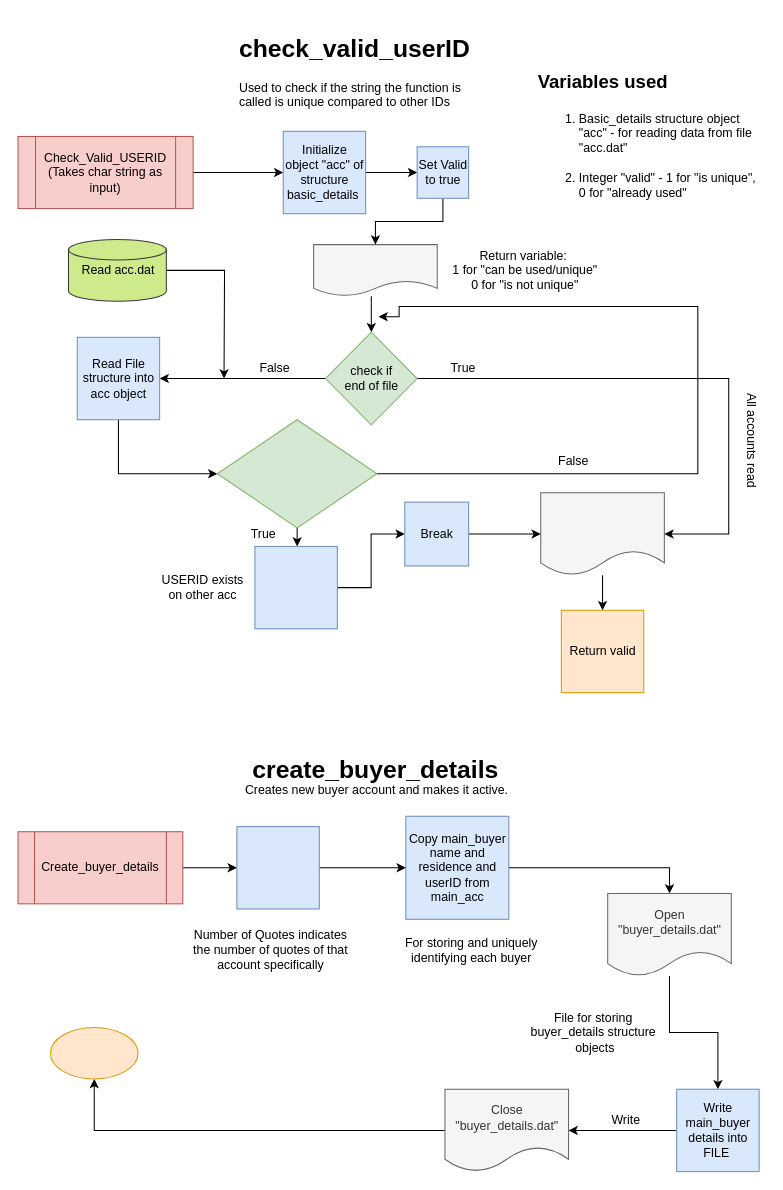
Image size: 783x1190. Some labels were removed from this diagram. Each missing label, with the box of its shape:
Check if input char matches with userID of acc: (216, 419, 377, 528)
Close "acc.dat": (540, 492, 664, 575)
Open "acc.dat": (313, 244, 437, 296)
set no_of_quotes on main_buyer as 0: (236, 826, 319, 909)
Set Valid to false: (254, 545, 337, 629)
Terminate Process: (49, 1026, 138, 1079)
